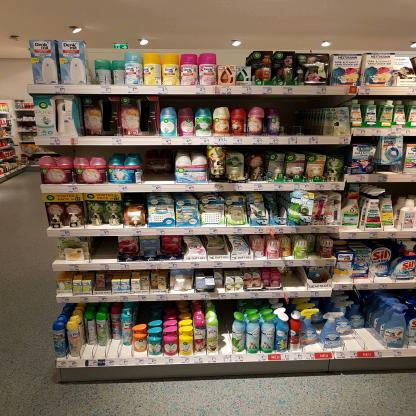Void: (280, 96, 326, 134), (148, 150, 172, 179), (93, 241, 116, 262), (355, 330, 377, 350), (223, 309, 233, 352)
